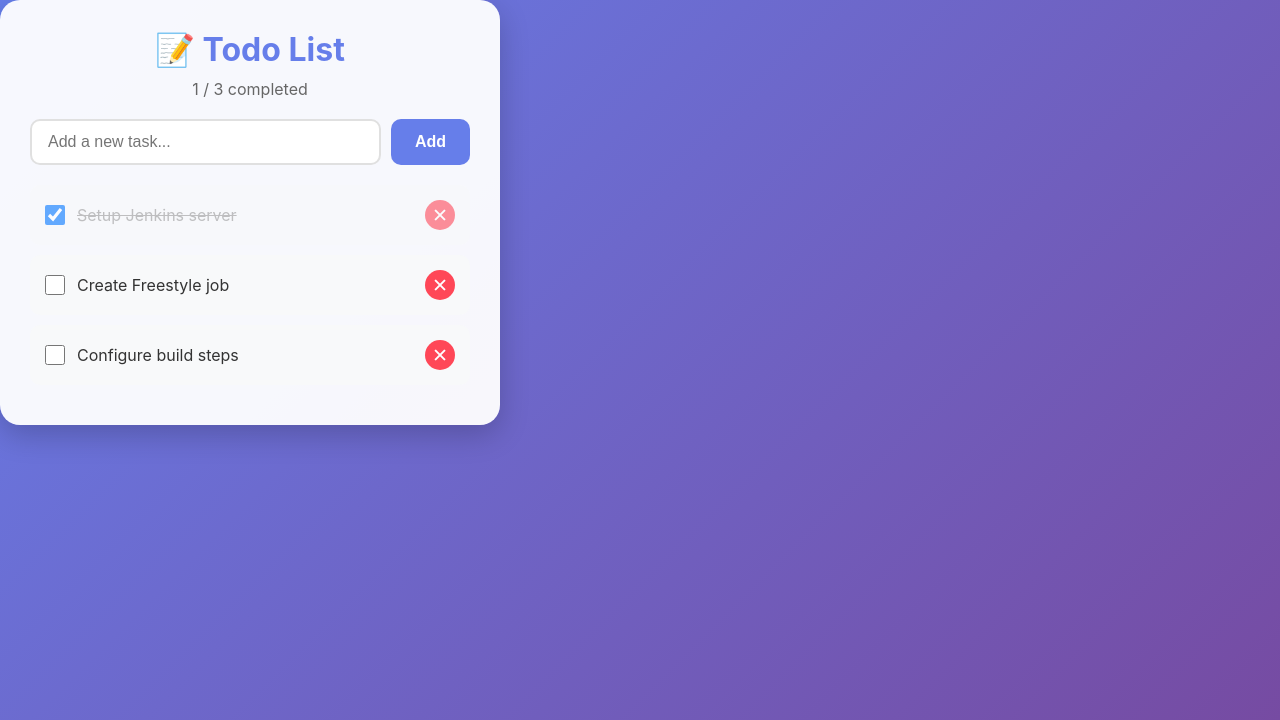
Test: TodoList Component › deletes todo
Click the button "✕" in the row of "Create Freestyle job" at point(440, 285), box [425,270,455,300]
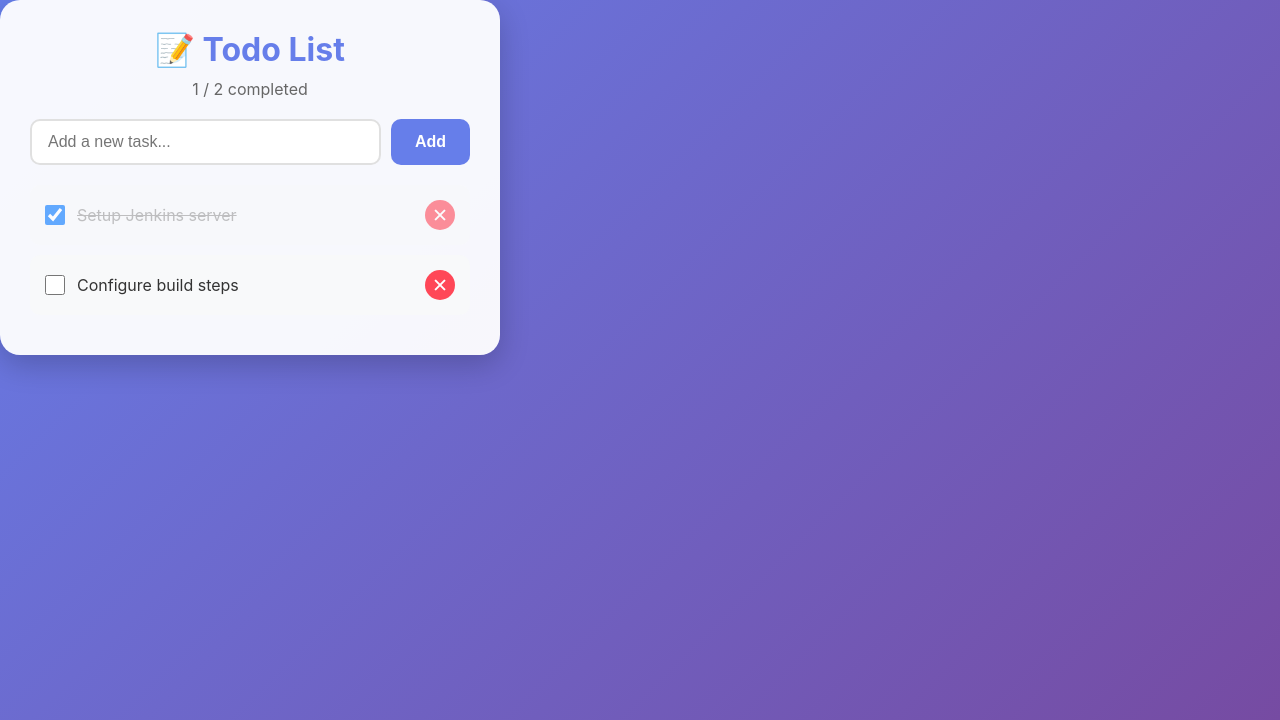
expect the text "Create Freestyle job" is gone: met
